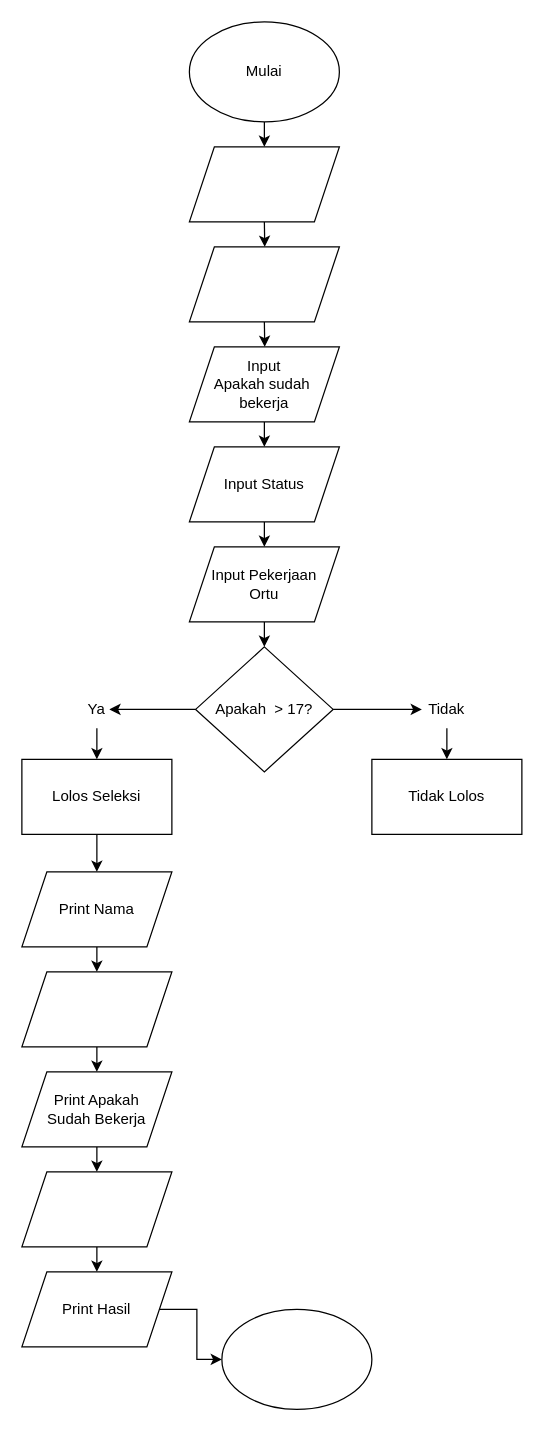
Image size: 544x1431. Some labels were removed from this diagram. The shapes that lost their labels are listed below. From the top down, each one's box as (x1, y1, x2, y2) in pixels, then its label:
(188, 146, 339, 222): Input Nama
(188, 246, 339, 322): Input Usia
(21, 971, 172, 1047): Print Usia
(21, 1171, 172, 1247): Print Status
(221, 1308, 372, 1409): Selesai
